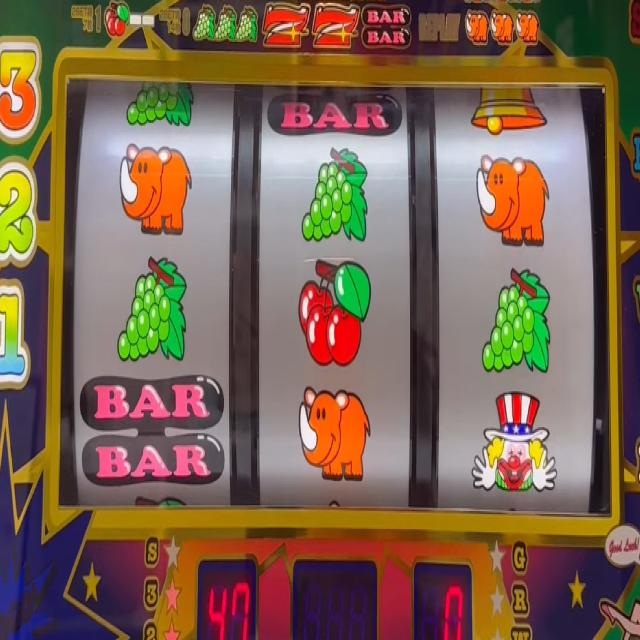bar: (78, 372, 225, 490), (266, 93, 404, 141), (361, 0, 412, 53)
bell: (469, 85, 548, 136)
cherry: (297, 256, 372, 369), (104, 0, 129, 42)
clown: (469, 387, 558, 501)
display: (59, 67, 614, 524)
elephant: (296, 381, 372, 484), (475, 148, 550, 251), (118, 141, 193, 237), (466, 7, 490, 49), (491, 7, 514, 49), (516, 11, 539, 47)
grape: (481, 263, 552, 379), (116, 252, 187, 366), (300, 143, 369, 246), (125, 84, 196, 130), (192, 0, 215, 45), (236, 4, 258, 43), (216, 3, 236, 45)
z: (261, 0, 311, 50), (312, 0, 359, 53)
